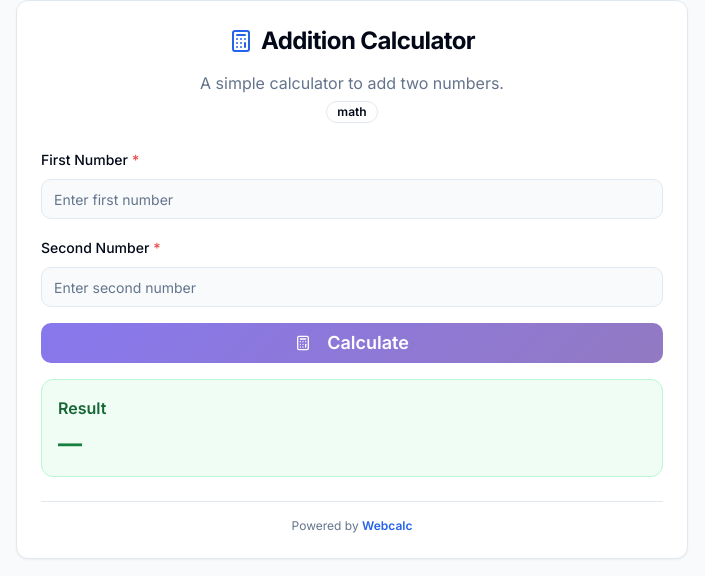
Test: Three Main Calculators Validation › Addition Calculator › handles decimal numbers
The image size is (705, 576).
Type "10.5" into the number field with test id "input-number1" at (352, 199), box [41,179,663,219]
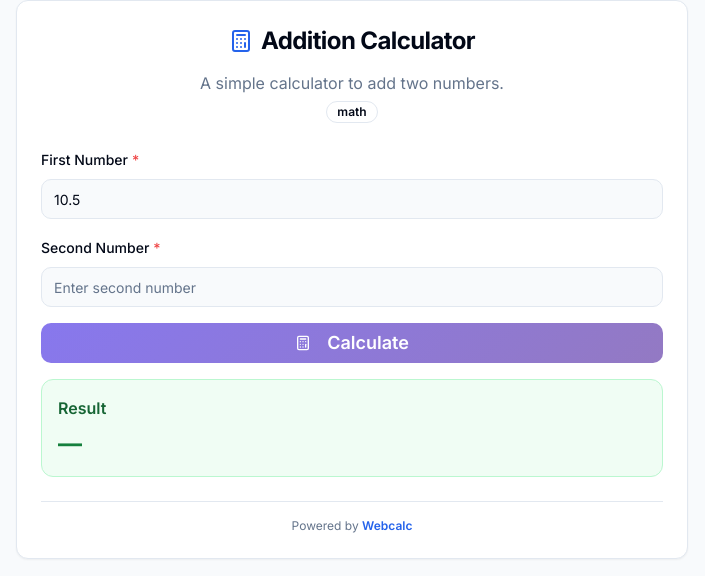
Type "20.3" into the number field with test id "input-number2" at (352, 287), box [41,267,663,307]
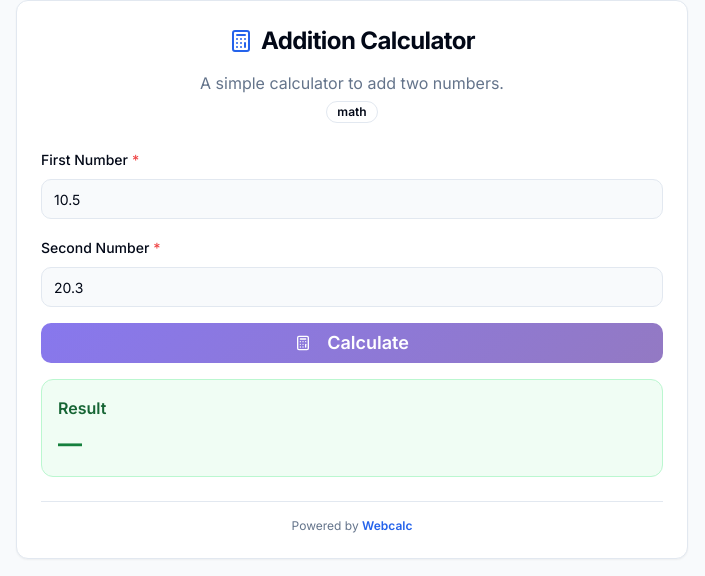
Click the button with test id "button-calculate" at (352, 343), box [41,323,663,363]
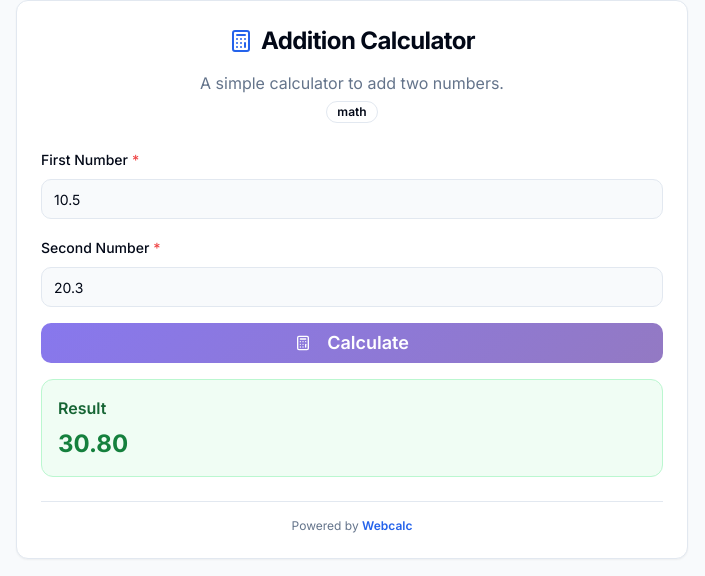
Check: the text with test id "text-result" reads "30.80", box [58,429,128,458]
